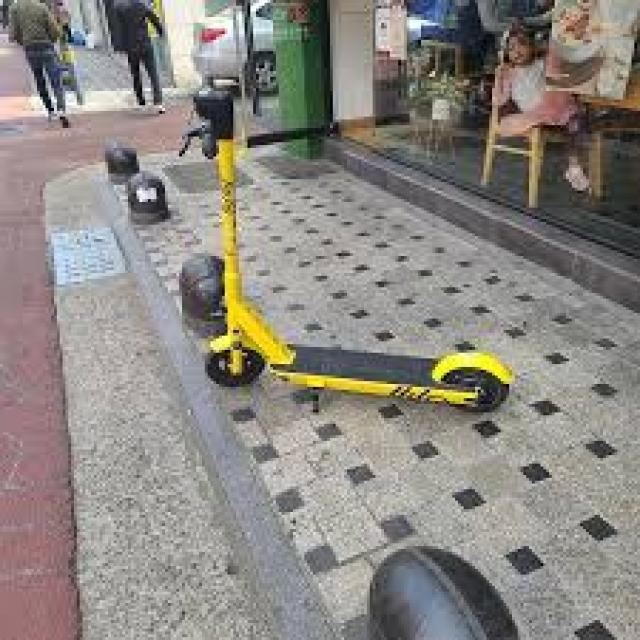curb: (98, 171, 338, 640)
kick-board: (176, 80, 518, 412)
road: (1, 36, 195, 640)
sidewalk: (229, 148, 640, 640), (137, 144, 223, 309)
verge: (51, 161, 286, 640)
